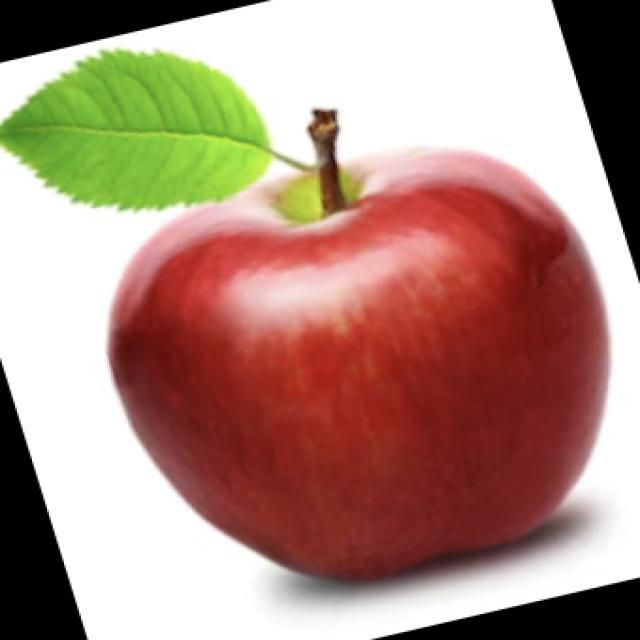Fresh Apple: (92, 135, 605, 587)
